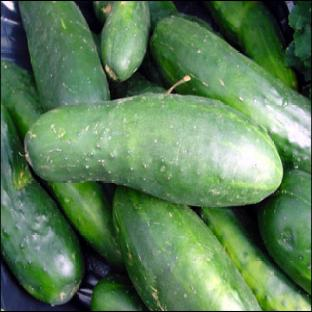Cucumber: (25, 94, 282, 205), (151, 17, 311, 172), (114, 188, 260, 310), (1, 103, 84, 304), (202, 207, 311, 310), (19, 2, 109, 110), (205, 2, 297, 89), (49, 181, 124, 269), (259, 171, 311, 294), (102, 2, 149, 81), (1, 60, 44, 141), (91, 276, 144, 310), (110, 72, 166, 98), (177, 13, 222, 37), (139, 48, 163, 86), (148, 2, 177, 30), (93, 2, 112, 24), (93, 33, 100, 57)
